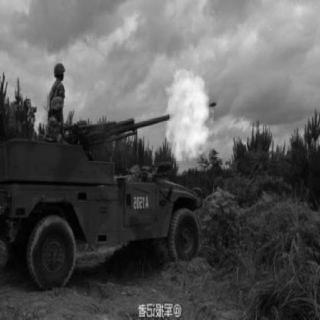Fire: (166, 65, 213, 163)
